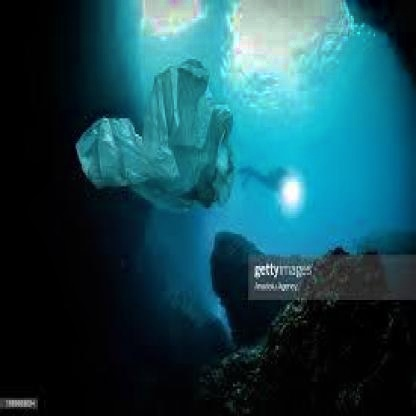pbag: (73, 59, 236, 218)
